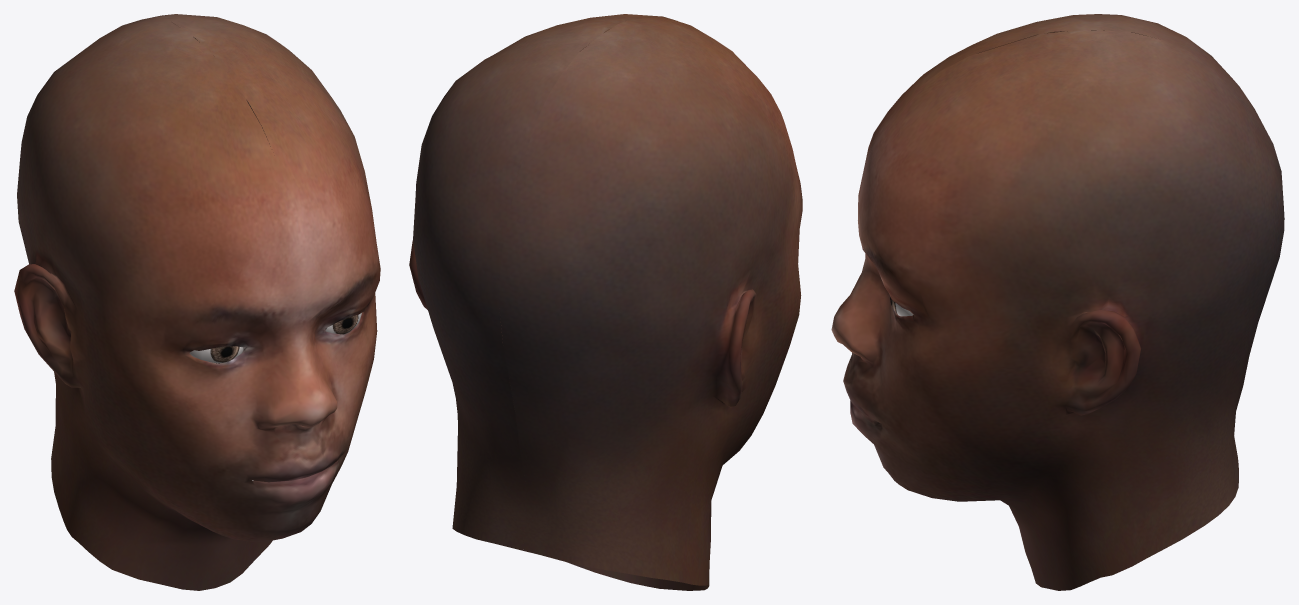
File: talk_000006.obj
3 renders of one model, left to right at view 1: azimuth 30°, elevation 25°; view 2: azimuth 150°, elevation 25°; view 3: azimuth 270°, elevation 25°, orthographic. The views are drawn at different scales.
Parts seen in each view (by area): view 1: model.002_model.004; view 2: model.002_model.004; view 3: model.002_model.004.
Part boxes in pixels (x1,y1,x2,y2): model.002_model.004: (14, 14, 380, 590); model.002_model.004: (409, 14, 802, 590); model.002_model.004: (831, 14, 1284, 590).
Bounding box in the file's own units: 0.4496 × 0.7369 × 0.5525.
Materials: 1 (1 with a texture image).
